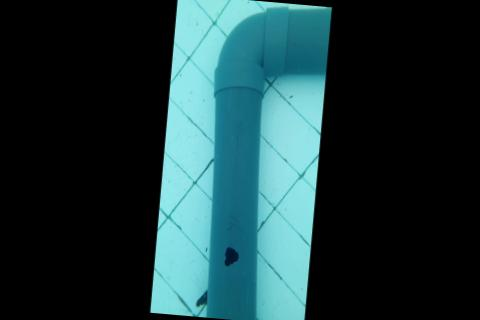kebocoran: (223, 245, 241, 269)
